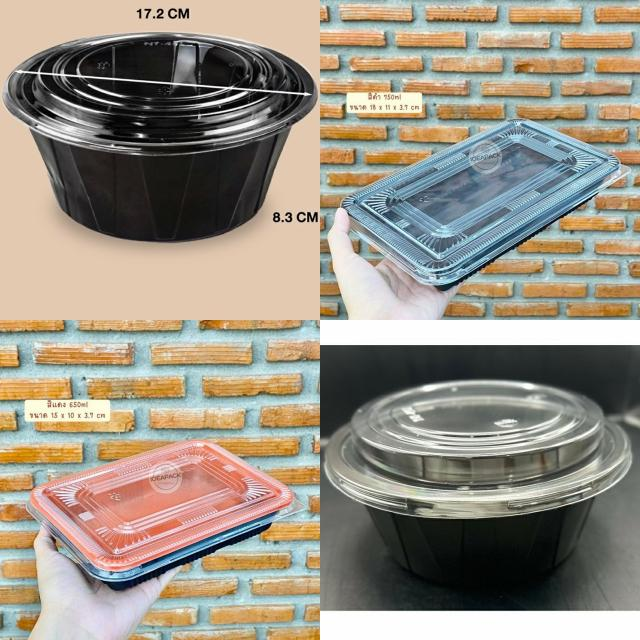Single-Use-Plastic: (4, 32, 318, 241), (325, 380, 632, 586), (342, 120, 629, 289), (28, 440, 304, 589)
